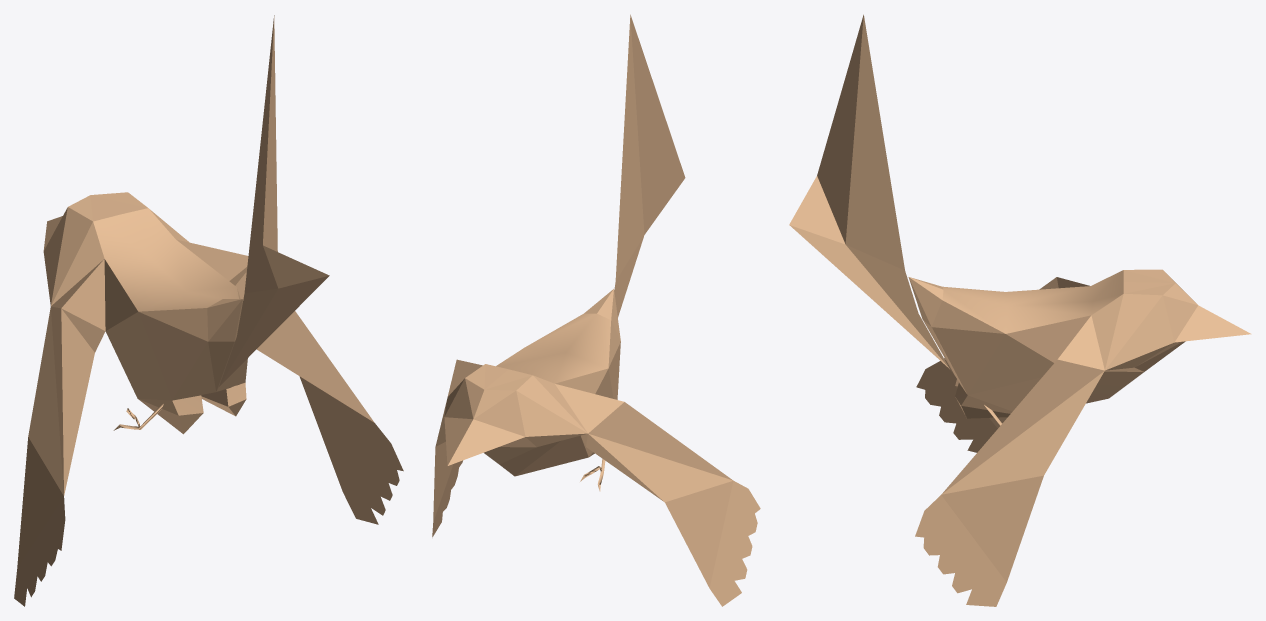
File: PajaroPose01.fbx
3 renders of one model, left to right at view 1: azimuth 30°, elevation 25°; view 2: azimuth 150°, elevation 25°; view 3: azimuth 270°, elevation 25°, orthographic. The views are drawn at different scales.
Parts seen in each view (by area): view 1: Plane.001_Body_1_0.001; view 2: Plane.001_Body_1_0.001; view 3: Plane.001_Body_1_0.001.
Boxes of the visible parts, x1,y1,x2,y2 form: Plane.001_Body_1_0.001: (14,15,403,606); Plane.001_Body_1_0.001: (432,14,760,606); Plane.001_Body_1_0.001: (789,14,1251,606).
Bounding box in the file's own units: 4537 × 5861 × 7346.
